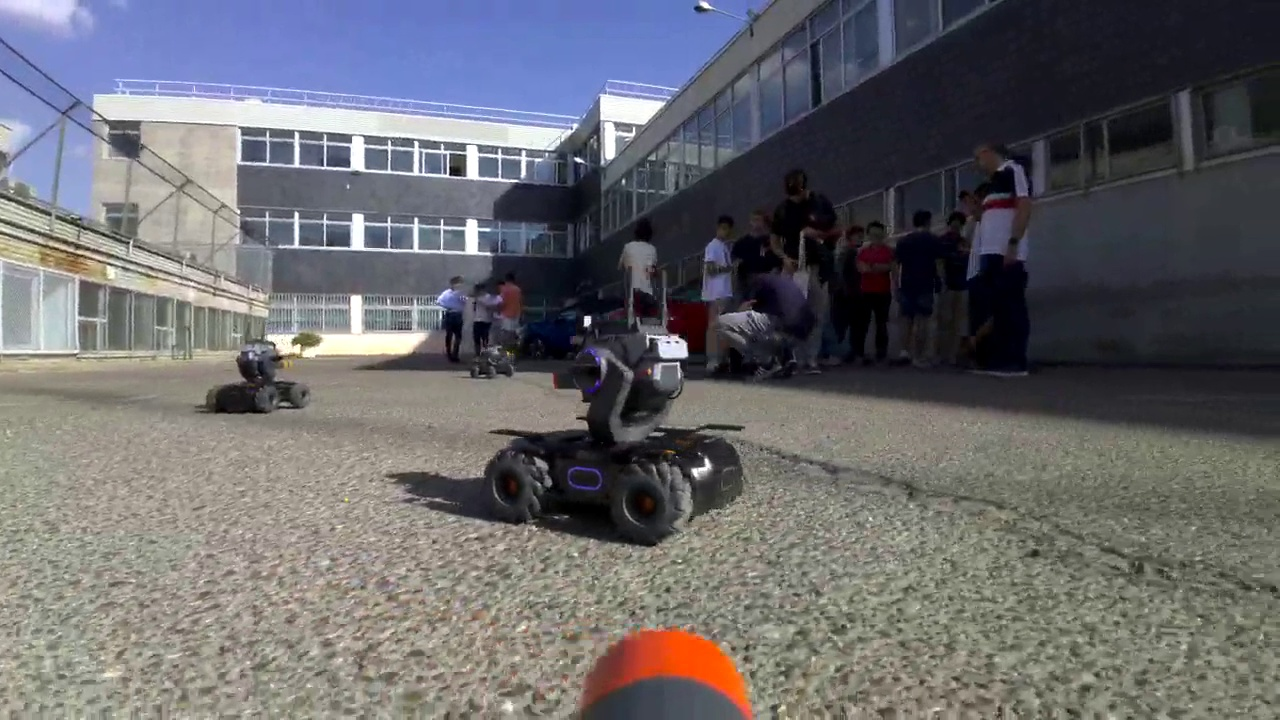robot: (482, 268, 746, 552), (205, 334, 311, 415), (473, 336, 520, 381)
